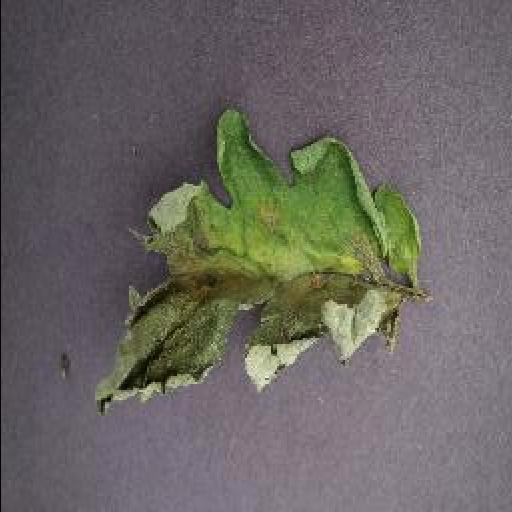disease_tomato: (84, 109, 424, 415)
